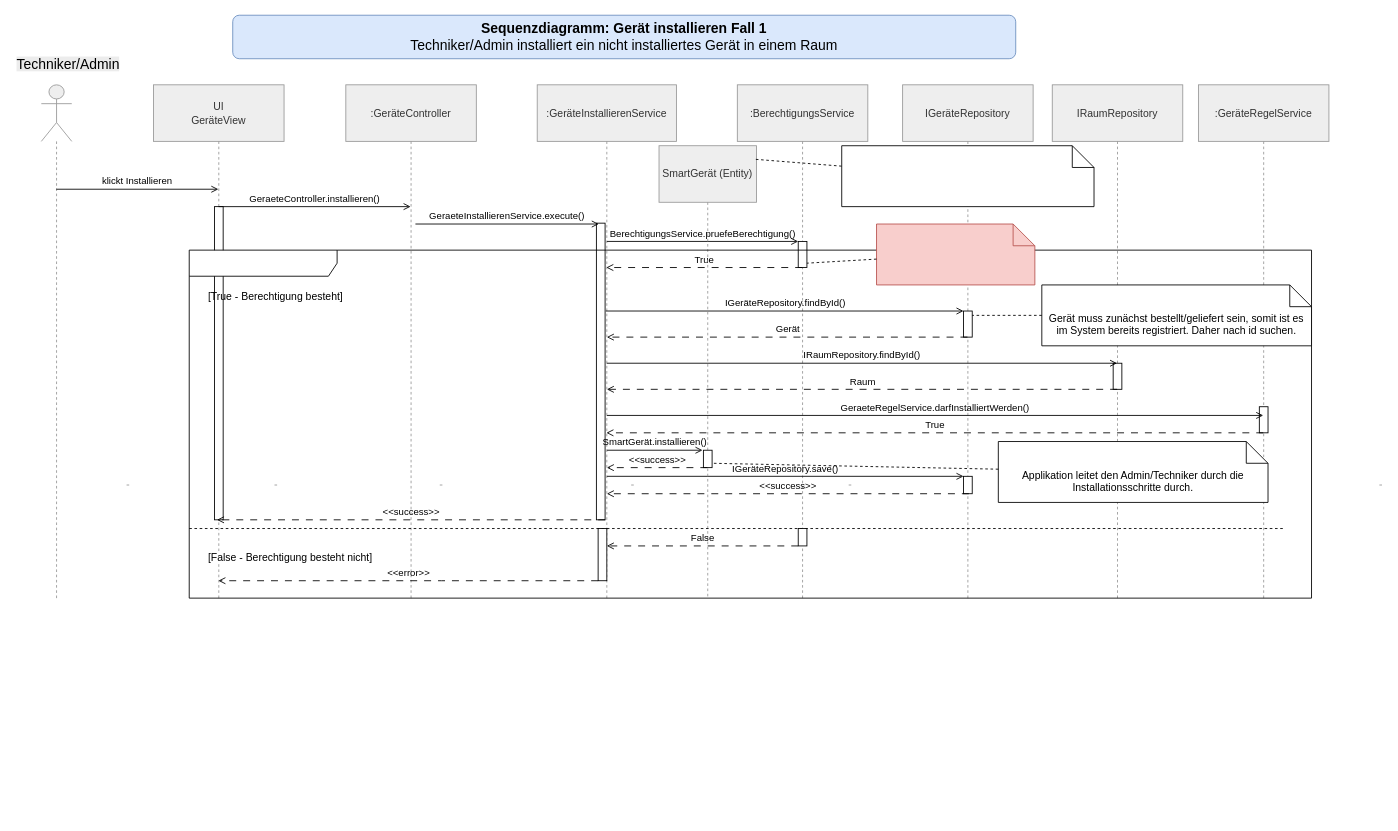
The diagram is 1398 pixels wide and 831 high, and some of its shapes have lost their labels. The shapes that lost their labels are listed below. From the top down, each one's box as (x1, y1, x2, y2) in pixels, then its label:
(841, 145, 1094, 207): In der echten Implementierung wird hier ein konkretes SmartGeraet verwendet
(876, 223, 1035, 285): Erweiterte Sicherheitsmaßnahme
(188, 249, 1312, 598): alt
